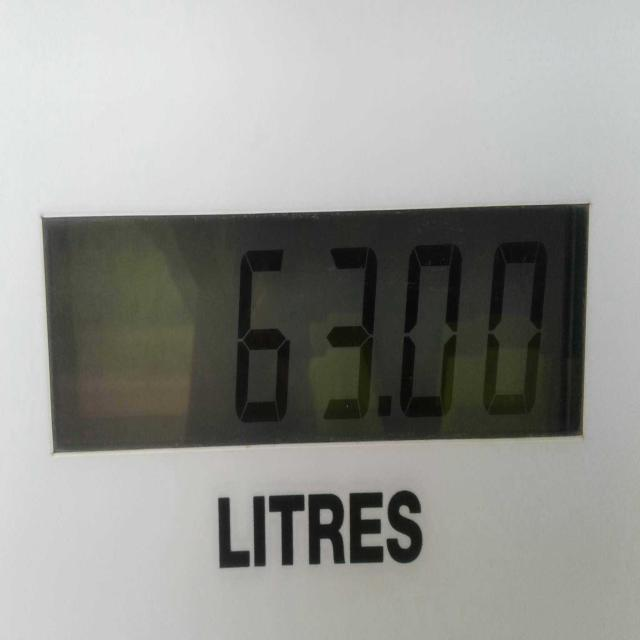.: (360, 374, 401, 450)
0: (396, 235, 477, 428), (476, 232, 555, 429)
3: (318, 240, 380, 442)
6: (217, 230, 305, 435)
